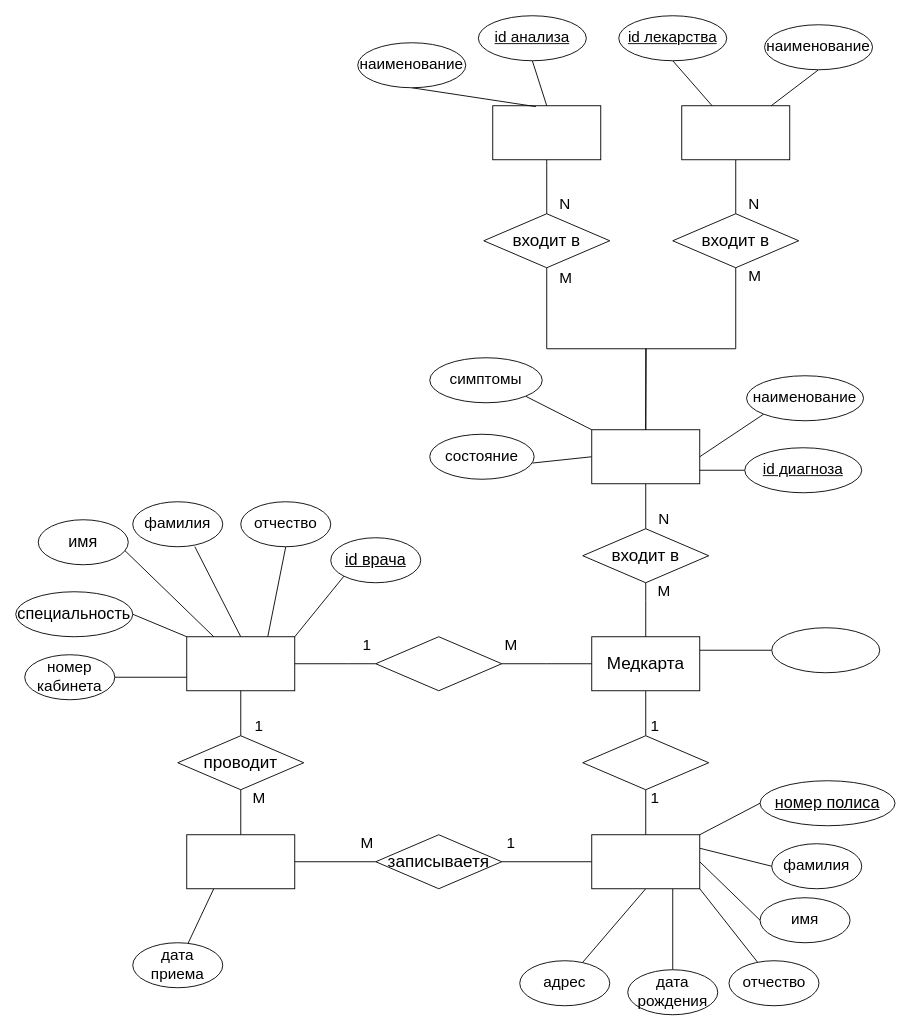
Image size: 911x1031. Some labels were removed from this diagram. The shapes that lost their labels are listed below. From the top down, each one's centre as x and y in pixels, then its label:
[546,132]: Анализ
[735,132]: Лекарство
[645,456]: Диагноз
[240,663]: Врач
[438,663]: заполняет
[825,650]: id медкарты
[645,762]: имеет
[240,861]: Прием
[645,861]: Пациент
